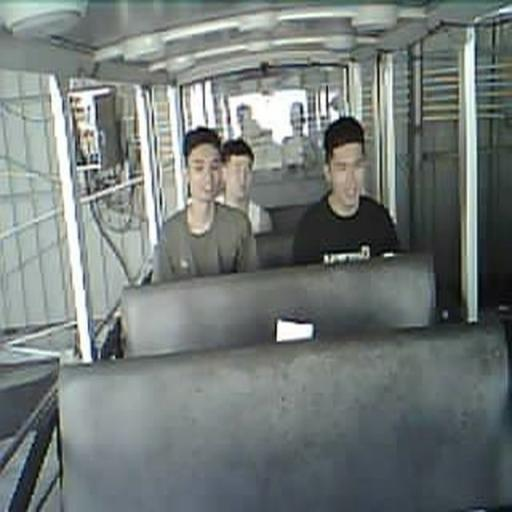persona: (150, 126, 258, 284), (292, 115, 400, 266), (216, 137, 274, 236)
